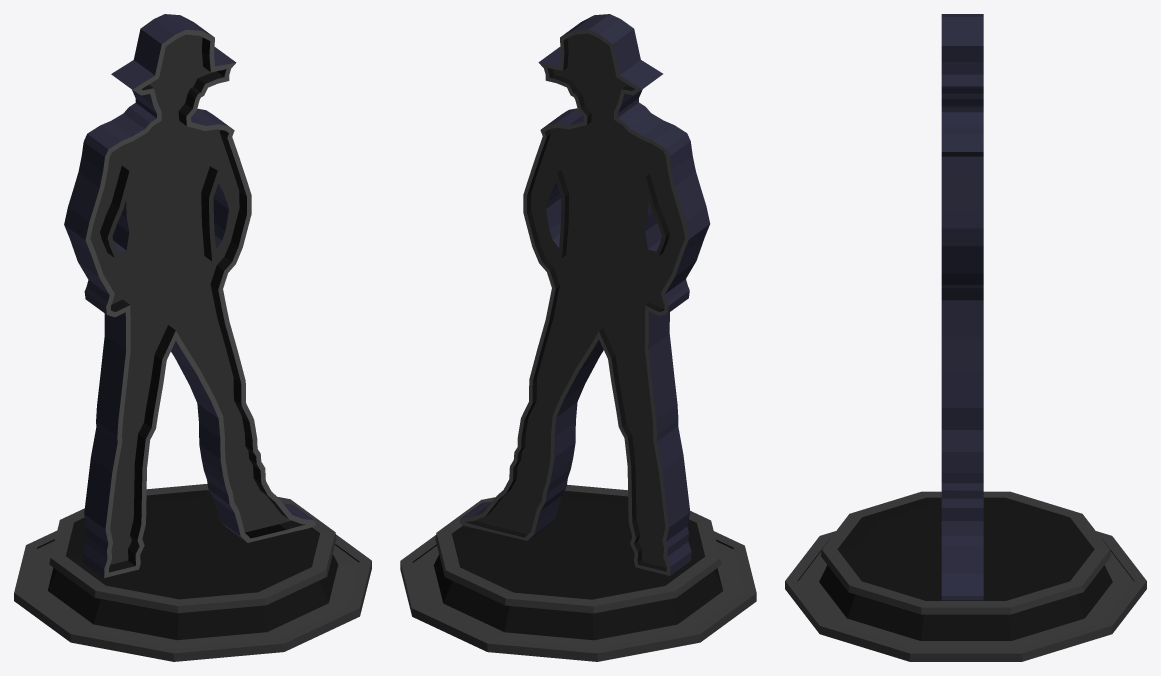
File: man.fbx
3 views of the same model, side by side, from view 1: azimuth 30°, elevation 25°; view 2: azimuth 150°, elevation 25°; view 3: azimuth 270°, elevation 25° (orthographic).
Parts seen in each view (by area): view 1: Plane; view 2: Plane; view 3: Plane.
Boxes of the visible parts, box(x1,y1,x2,y2) form: Plane: box(14, 14, 371, 661); Plane: box(400, 14, 756, 661); Plane: box(785, 14, 1146, 661).
Size of the model in its own units: 186 by 335 by 195.
